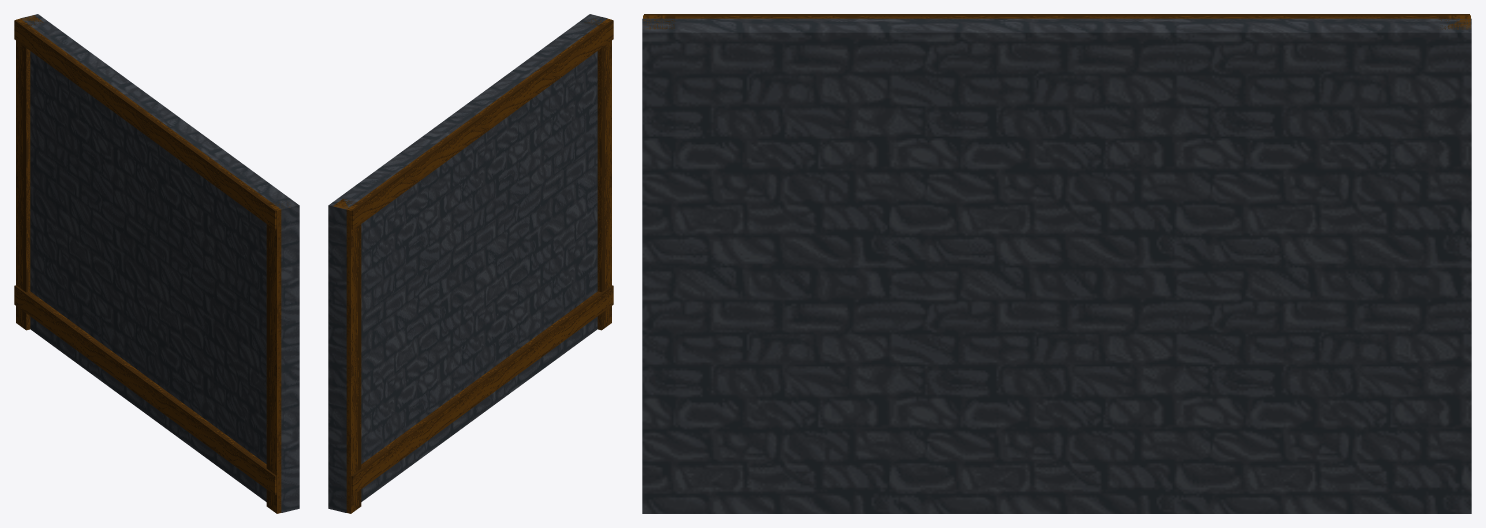
Rendered from Wand 5m V3.fbx.
3 views of the same model, side by side, from view 1: azimuth 30°, elevation 25°; view 2: azimuth 150°, elevation 25°; view 3: azimuth 270°, elevation 25° (orthographic). The views are drawn at different scales.
Parts seen in each view (by area): view 1: Cube.026; view 2: Cube.026; view 3: Cube.026.
Part boxes in pixels (left/top/right/bottom): Cube.026: left=14, top=14, right=299, bottom=513; Cube.026: left=328, top=14, right=613, bottom=513; Cube.026: left=642, top=14, right=1471, bottom=513.
Size of the model in its own units: 26.77 by 500 by 320.
1 material, 1 textured.
